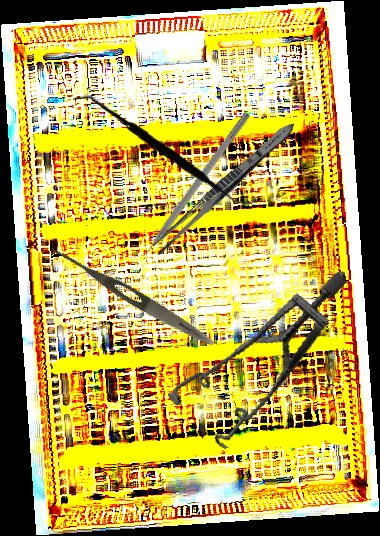Chopper: (127, 105, 251, 267)
Dressing Forceps: (148, 116, 300, 260), (44, 241, 218, 351)
Spatula Surgical: (69, 94, 256, 209)
Speculum: (150, 271, 376, 458)
